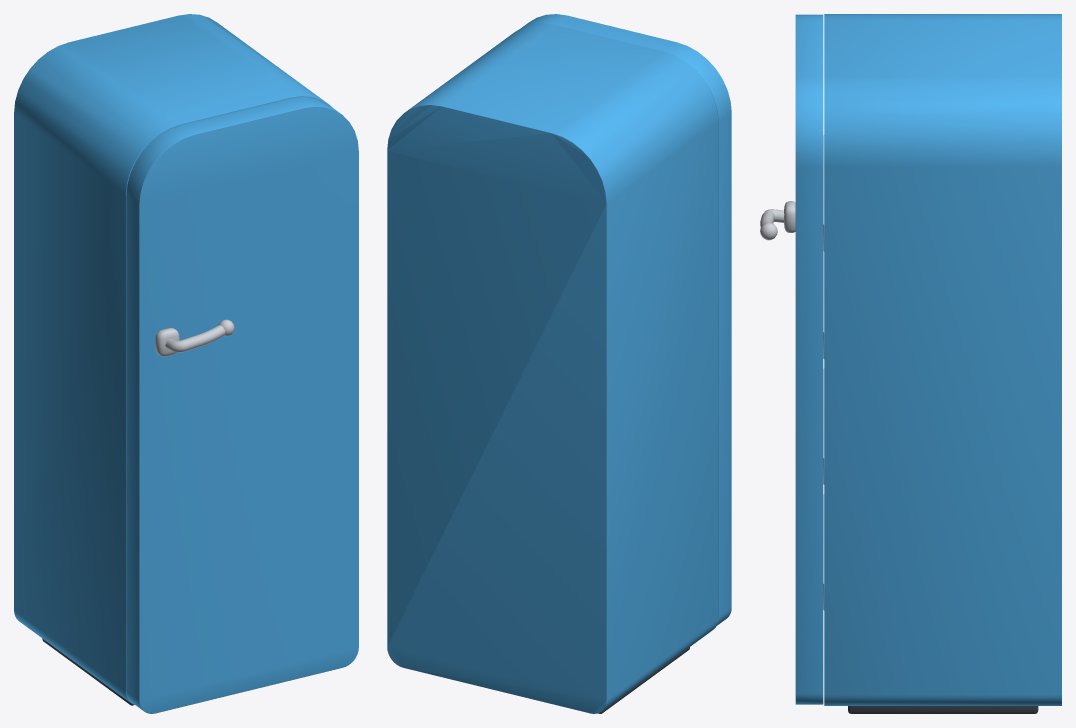
Rendered from geladeira_retro_uma_porta_celeste.glb.
The picture shows the model from 3 angles, left to right: view 1: azimuth 30°, elevation 25°; view 2: azimuth 150°, elevation 25°; view 3: azimuth 270°, elevation 25°; orthographic projection. The views are drawn at different scales.
Visible parts, largest first — view 1: porta_geladeira, geladeira_retro_uma_porta_celeste; view 2: geladeira_retro_uma_porta_celeste, porta_geladeira; view 3: geladeira_retro_uma_porta_celeste, porta_geladeira.
Part boxes in pixels (x1,y1,x2,y2): porta_geladeira: (126, 97, 358, 713); geladeira_retro_uma_porta_celeste: (14, 14, 331, 705); geladeira_retro_uma_porta_celeste: (387, 23, 718, 713); porta_geladeira: (522, 14, 731, 625); geladeira_retro_uma_porta_celeste: (824, 14, 1061, 713); porta_geladeira: (760, 14, 824, 704).
Bounding box in the file's own units: 0.68 × 1.72 × 0.762.
2 materials, 1 textured.
